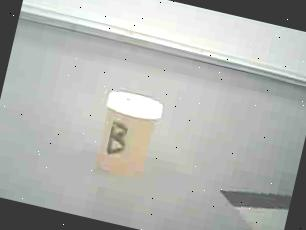Bottle B: (88, 84, 168, 184)
